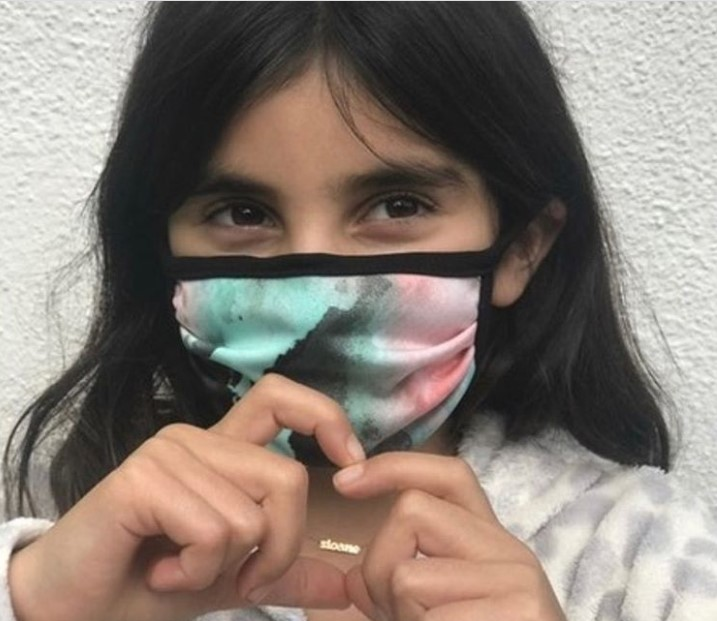face_with_mask: (147, 8, 549, 475)
